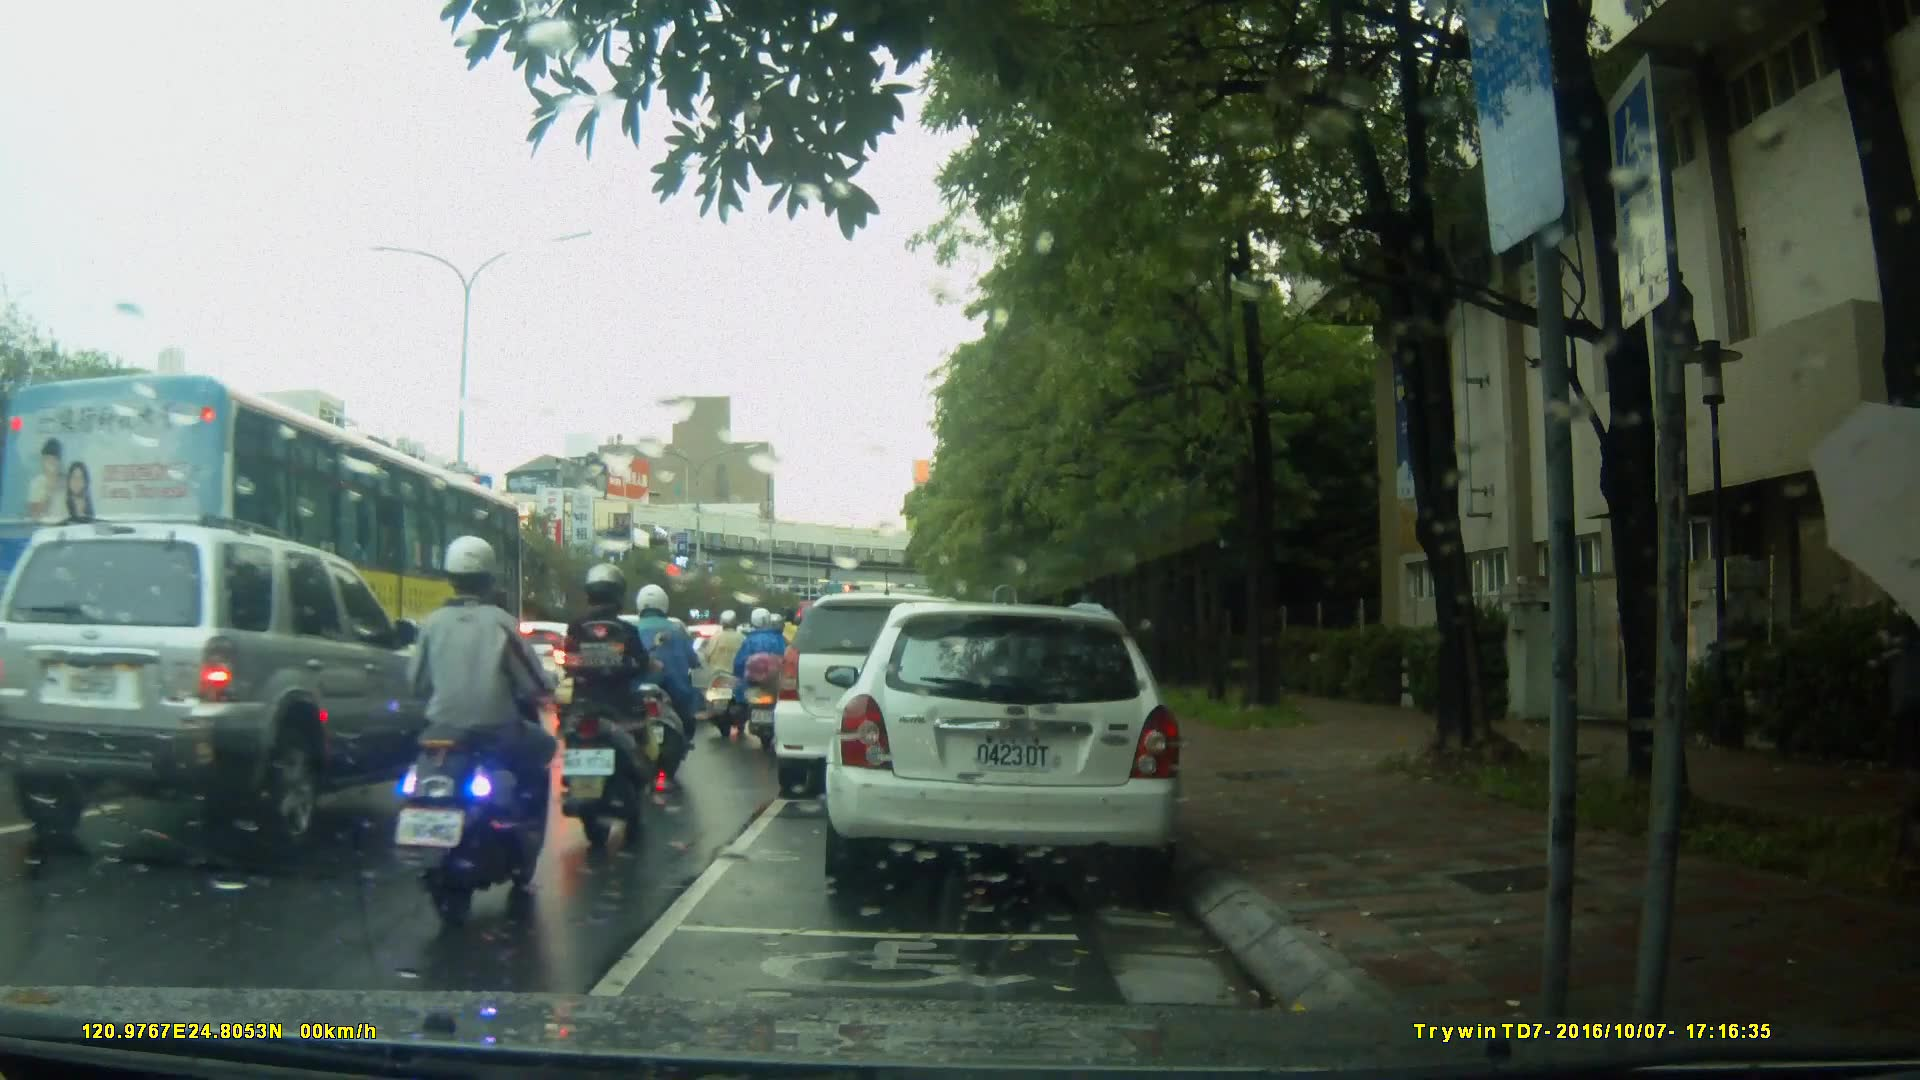rider: (389, 531, 565, 930), (561, 561, 666, 848), (617, 581, 709, 785), (736, 610, 808, 738), (697, 603, 756, 735)
vehicle: (12, 374, 529, 769), (3, 516, 445, 855), (835, 594, 1194, 898), (776, 590, 1026, 784)
